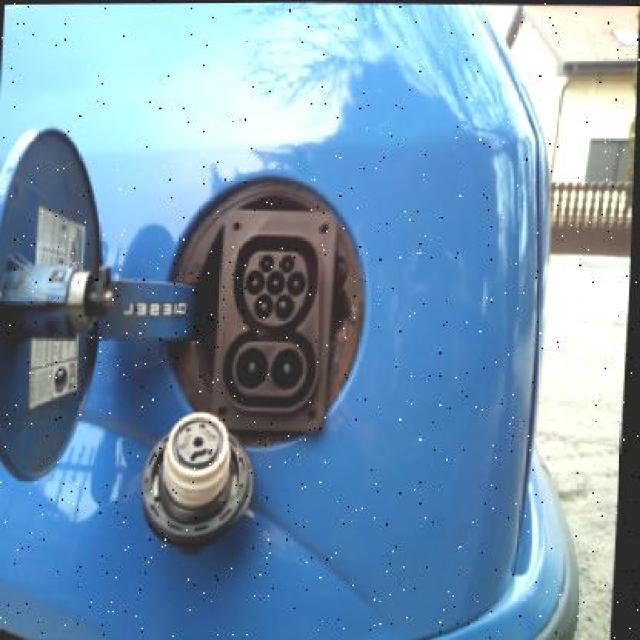CCS2: (195, 181, 353, 437)
